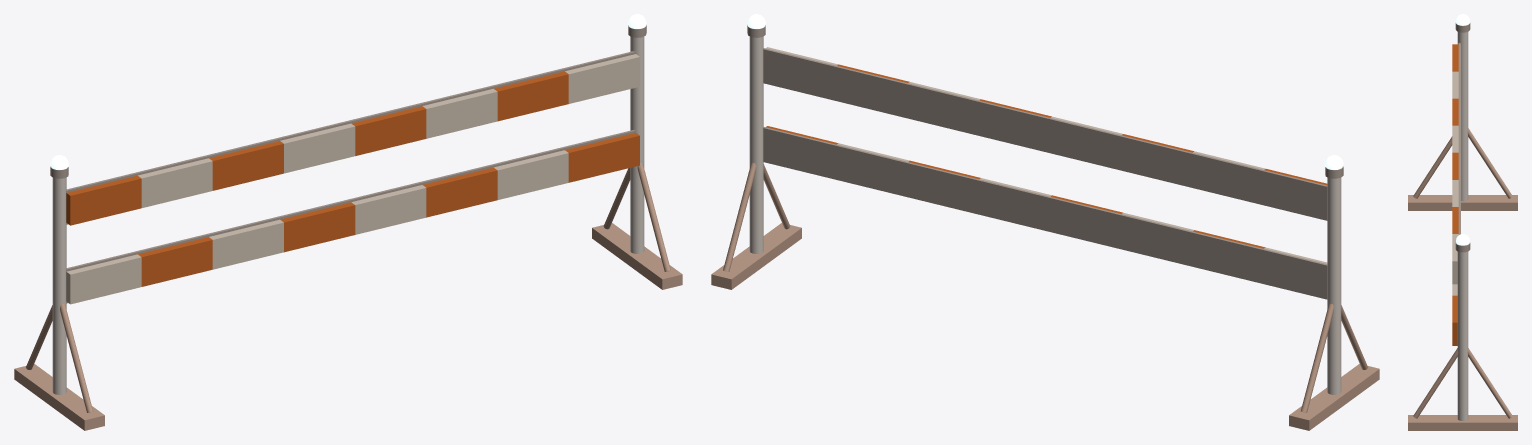
File: D13_barrier_3m.glb
3 renders of one model, left to right at view 1: azimuth 30°, elevation 25°; view 2: azimuth 150°, elevation 25°; view 3: azimuth 270°, elevation 25°, orthographic. The views are drawn at different scales.
Parts seen in each view (by area): view 1: bar_segment, post_foot, post, object 4; view 2: object 4, post_foot, post, bar_segment; view 3: post_foot, post, bar_segment, object 4, warning_light.
Part boxes in pixels (x1,y1,x2,y2): bar_segment: (66, 54, 639, 304); post_foot: (14, 162, 682, 430); post: (52, 36, 644, 394); object 4: (50, 25, 646, 303); object 4: (747, 25, 1343, 299); post_foot: (711, 162, 1379, 430); post: (749, 36, 1341, 394); bar_segment: (766, 47, 1327, 263); post_foot: (1408, 128, 1517, 430); post: (1457, 32, 1468, 420); bar_segment: (1452, 44, 1458, 345); object 4: (1455, 23, 1470, 252); warning_light: (1456, 14, 1469, 245).
Bounding box in the file's own units: 2.94 × 1.16 × 0.6001.
